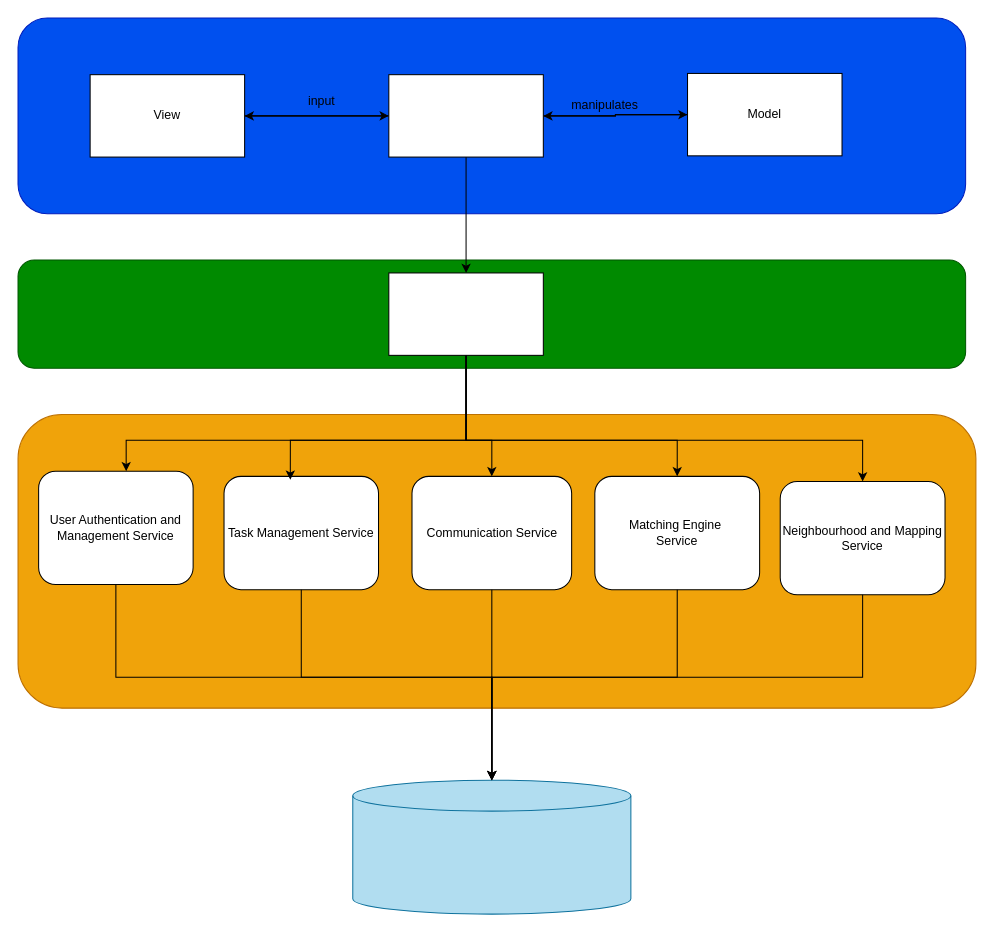
This 994x932 diagram has some shape labels left out. Here are the shapes that lost their labels. From the top down, the centre of each, then its label:
At pixel 465 115: "ViewModel".
At pixel 465 313: "API Gateway".
At pixel 491 846: "Database".
